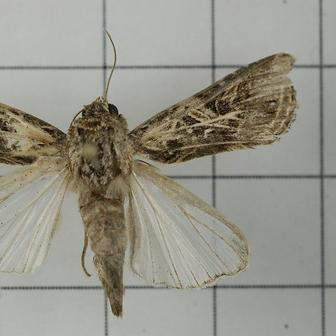Spodoptera litura: (1, 29, 299, 319)
